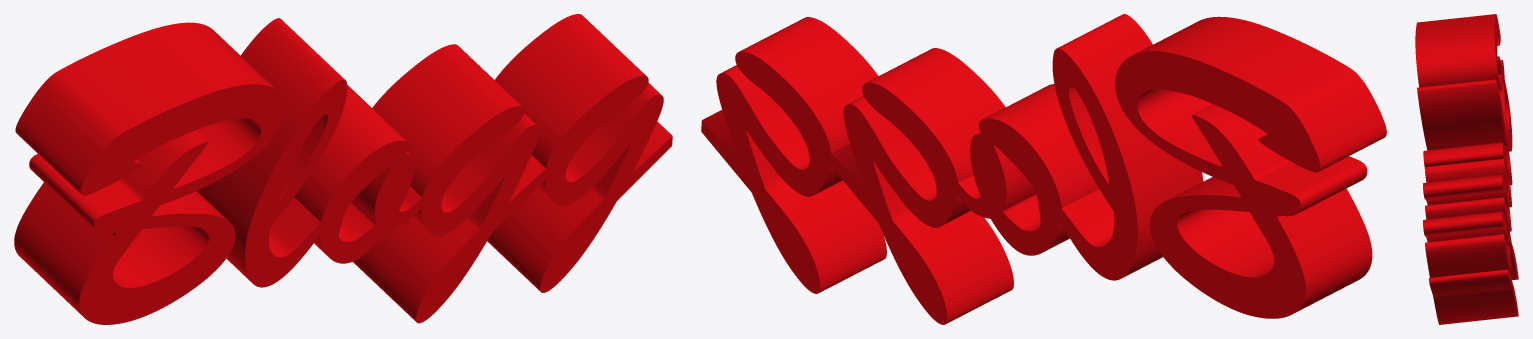
The model's file is letterblogg.glb.
The picture shows the model from 3 angles, left to right: view 1: azimuth 30°, elevation 25°; view 2: azimuth 150°, elevation 25°; view 3: azimuth 270°, elevation 25°; orthographic projection. The views are drawn at different scales.
Parts seen in each view (by area): view 1: Text; view 2: Text; view 3: Text.
Part boxes in pixels (box(x1,y1,x2,y2)): Text: box(14, 14, 672, 324); Text: box(701, 14, 1386, 324); Text: box(1415, 14, 1518, 324).
Size of the model in its own units: 1.48 by 0.7436 by 0.3625.
